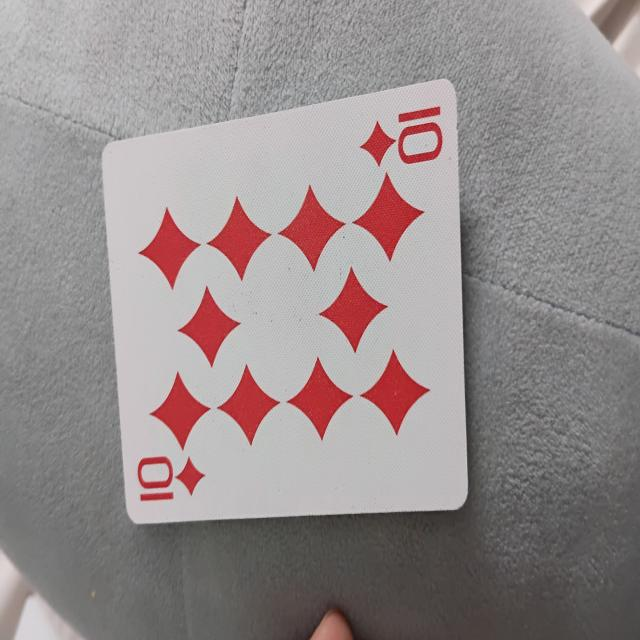10D: (115, 62, 468, 543)
